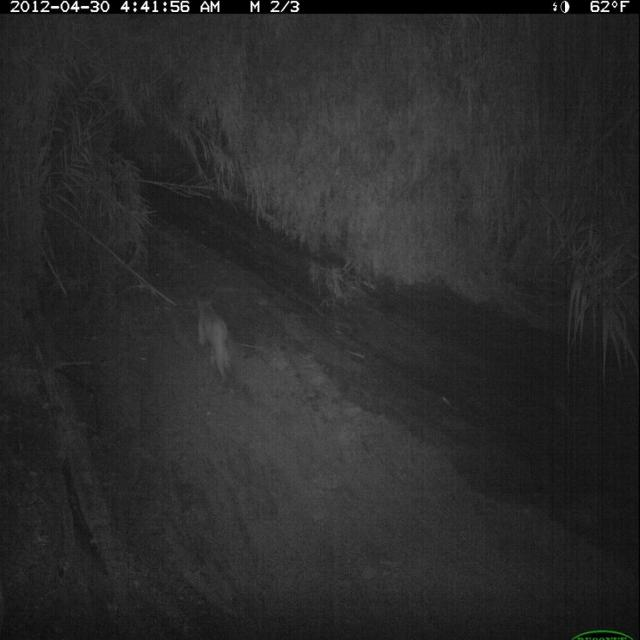bobcat: (190, 291, 237, 390)
